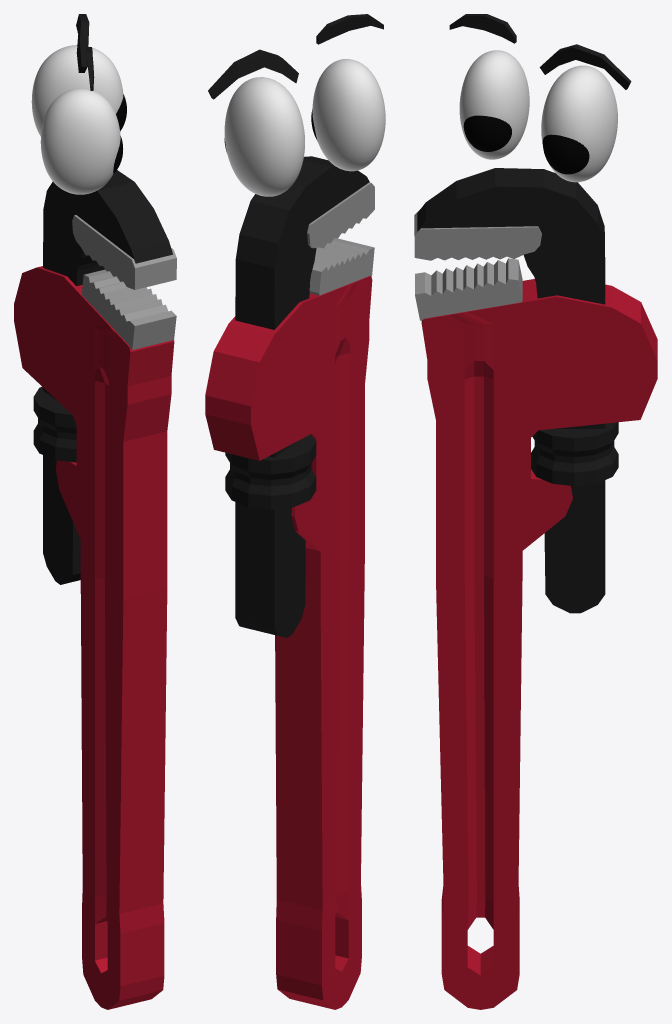
The model's file is wrenchy merged.fbx.
3 renders of one model, left to right at view 1: azimuth 30°, elevation 25°; view 2: azimuth 150°, elevation 25°; view 3: azimuth 270°, elevation 25°, orthographic. The views are drawn at different scales.
Visible parts, largest first — view 1: Base, Head, Eyes, Eyebrows; view 2: Base, Head, Eyes, Eyebrows; view 3: Base, Head, Eyes, Eyebrows.
Boxes of the visible parts, x1,y1,x2,y2 form: Base: (14, 266, 176, 1009); Head: (43, 170, 176, 584); Eyes: (31, 45, 126, 194); Eyebrows: (76, 14, 94, 90); Base: (205, 238, 374, 1009); Head: (235, 156, 374, 637); Eyes: (224, 59, 385, 196); Eyebrows: (208, 14, 383, 99); Base: (415, 258, 657, 1009); Head: (414, 168, 605, 613); Eyes: (459, 50, 617, 182); Eyebrows: (449, 14, 631, 89).
Size of the model in its own units: 63.05 by 509 by 116.
